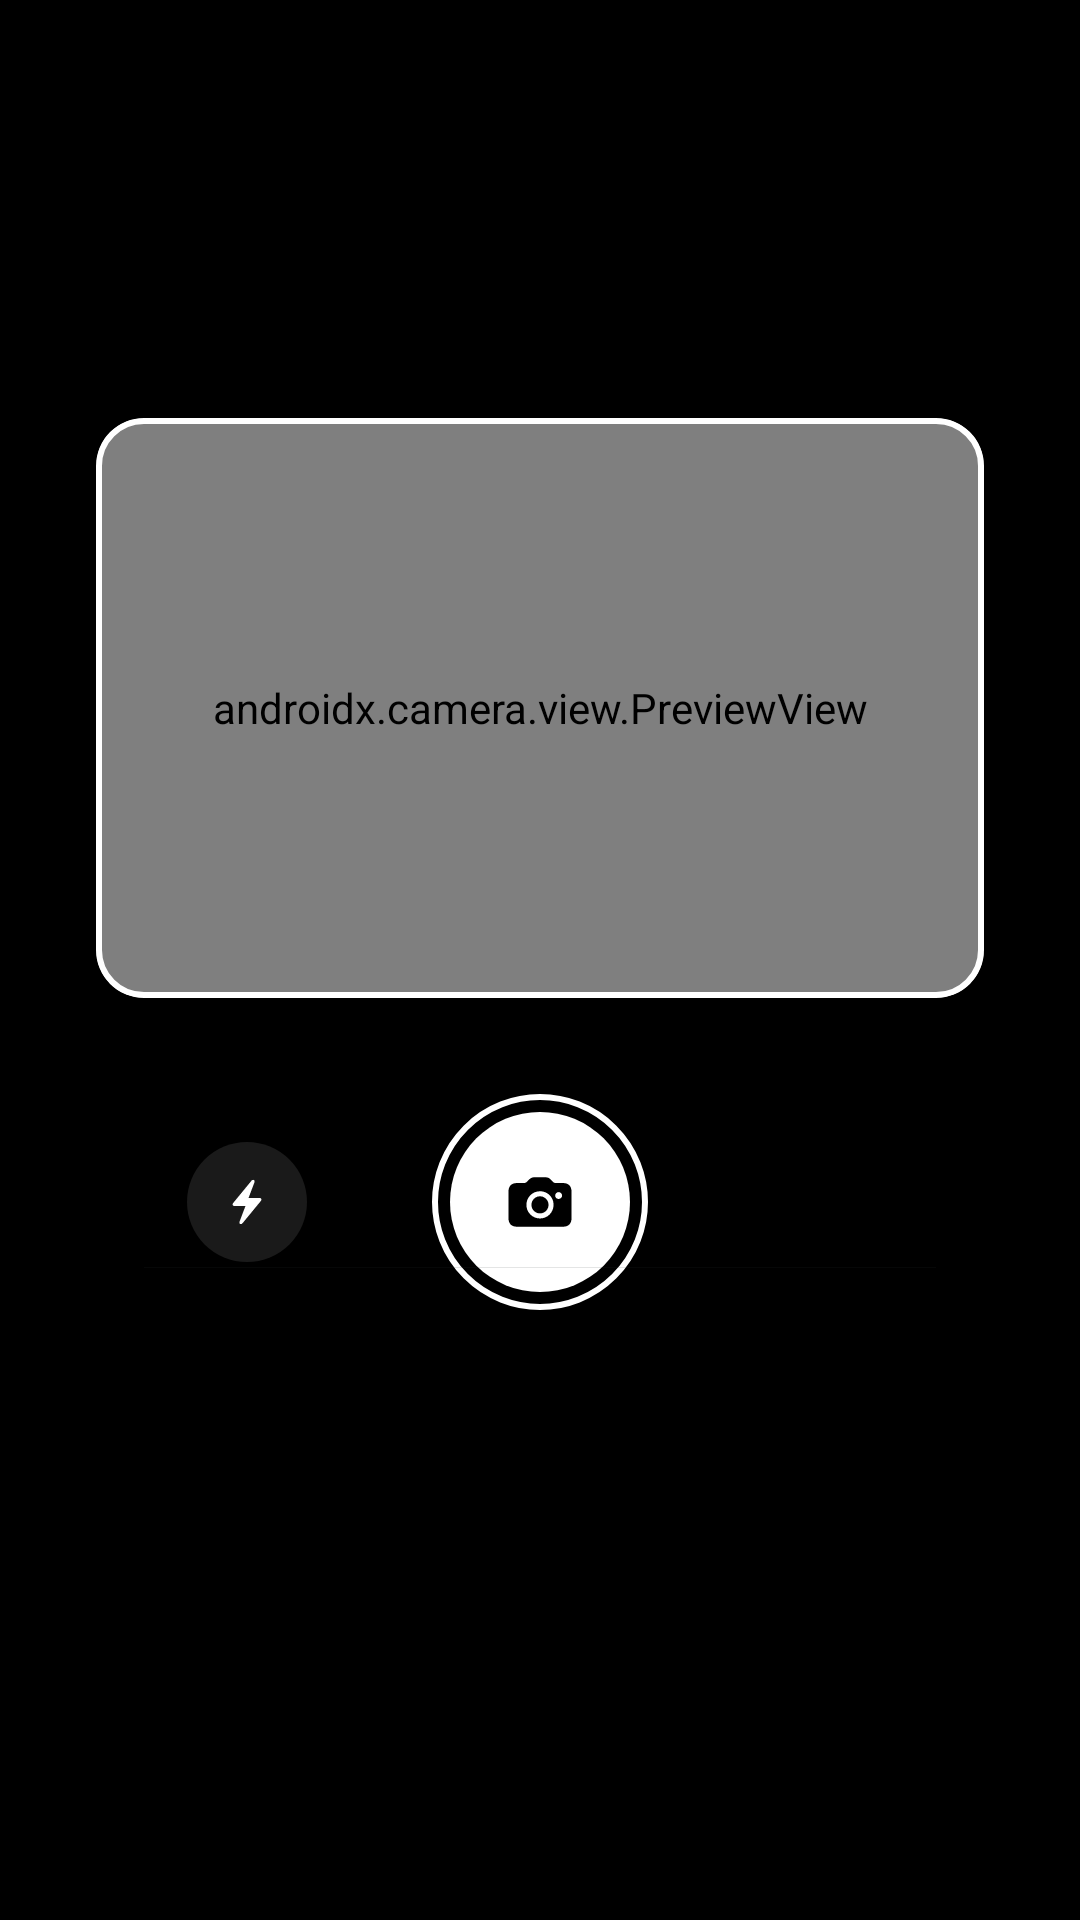

Icons on this 1080px×1920px Android screen, each with its box as bbox(x1, y1, x2, y2):
camera glyph: bbox(450, 1112, 630, 1292)
flash on: bbox(187, 1142, 307, 1262)
